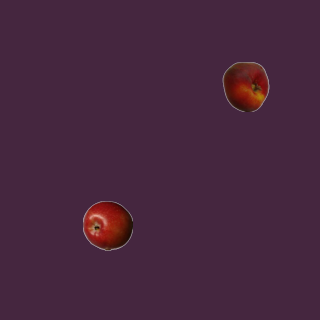Apple Braeburn: (82, 200, 132, 250)
Nectarine Flat: (220, 61, 270, 111)
